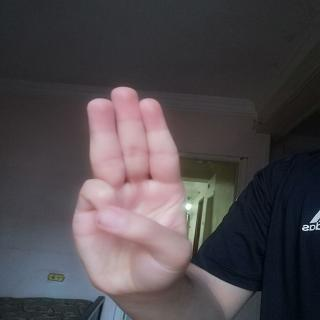THA: (63, 78, 207, 299)
